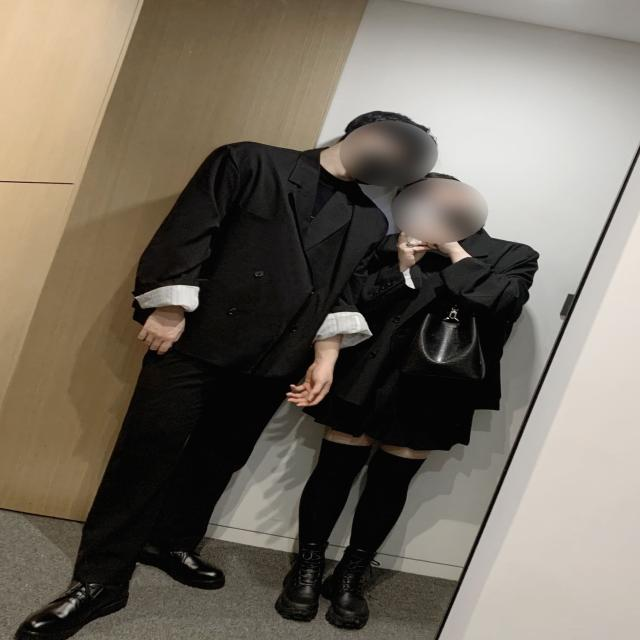blazer: (131, 132, 389, 374), (332, 219, 535, 372)
skirt: (317, 329, 493, 451)
slacks: (79, 276, 305, 582)
